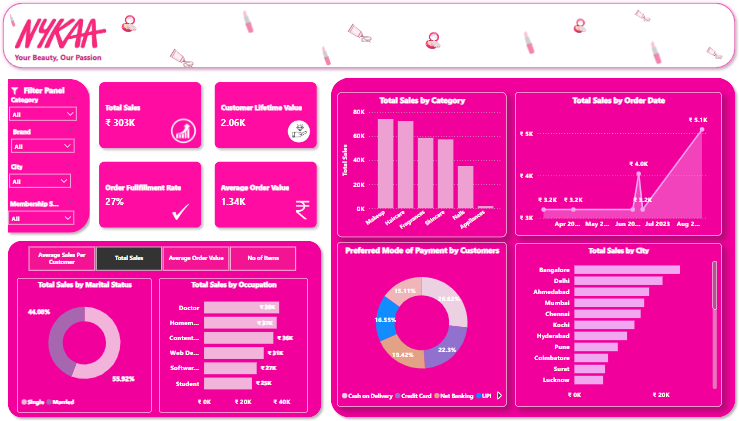

Layout of this report page (visuals, bound fields, positions):
{"tool":"powerbi","page":{"name":"Page 1","canvas":[1400,800],"ordinal":0},"visuals":[{"type":"shape","box":[0,0,1400,141.4],"z":0},{"type":"image","box":[0,34.3,235.7,65.7],"z":1000},{"type":"image","box":[640,38.6,84.3,57.1],"z":2000},{"type":"image","box":[975.7,42.9,48.6,81.4],"z":3000},{"type":"image","box":[304.3,84.3,84.3,57.1],"z":4000},{"type":"image","box":[445.7,2.9,48.6,81.4],"z":5000},{"type":"image","box":[782.9,54.3,80,52.9],"z":6000},{"type":"image","box":[210,22.9,80,52.9],"z":7000},{"type":"image","box":[0,22.9,52.9,38.6],"z":8000},{"type":"image","box":[1067.1,30,64.3,45.7],"z":9000},{"type":"image","box":[1215.7,61.4,48.6,81.4],"z":10000},{"type":"image","box":[1182.9,12.9,65.7,40],"z":11000},{"type":"textbox","box":[27.1,95.7,262.9,28.6],"z":12000},{"type":"shape","box":[8.6,142.9,172.9,308.6],"z":13000},{"type":"textbox","box":[44,158,230,38],"z":14000},{"type":"image","box":[9,161,44,31],"z":15000},{"type":"cardVisual","fields":{"Data":["Nykaa Customers.Total Sales","Nykaa Customers.Customer Lifetime Value","Nykaa Customers.Order Fullfillment Rate","Nykaa Customers.Average Order Value"]},"box":[172.9,141.4,445.7,310],"z":16000},{"type":"image","box":[1321.4,82.9,61.4,41.4],"z":17000},{"type":"image","box":[597.1,77.1,42.9,64.3],"z":18000},{"type":"donutChart","fields":{"Y":["Nykaa Customers.Total Sales","Nykaa Customers.average sales per customer","Nykaa Products.No of Items","Nykaa Sales.Average Order Value"],"Category":["Nykaa Customers.Marital Status"]},"box":[61.4,494.3,257.1,157.1],"z":19000},{"type":"shape","box":[8.6,448.6,610,351.4],"z":20000},{"type":"shape","box":[618.6,141.4,781.4,658.6],"z":25001},{"type":"columnChart","title":"Total Sales by Category","fields":{"Category":["Nykaa Products.Category"],"Y":["Sum(Nykaa Sales.Total Amount)"]},"box":[640,177.1,320,274.3],"z":25004},{"type":"donutChart","title":"Preferred Mode of Payment by Customers","fields":{"Y":["CountNonNull(Nykaa Sales.Customer ID)"],"Category":["Nykaa Orders.Payment Method"]},"box":[640,460,320,311.4],"z":25005},{"type":"barChart","fields":{"Category":["Nykaa Customers.City"],"Y":["Nykaa Customers.Total Sales"]},"box":[975.7,462.9,390,308.6],"z":25006},{"type":"areaChart","fields":{"Category":["Nykaa Orders.Order Date"],"Y":["Nykaa Customers.Total Sales"]},"box":[975.7,177.1,390,271.4],"z":25007},{"type":"slicer","fields":{"Values":["Nykaa Products.Category"]},"box":[11.4,177.1,147.1,61.4],"z":25008},{"type":"slicer","fields":{"Values":["Nykaa Products.Brand"]},"box":[14.3,238.6,138.6,64.3],"z":25009},{"type":"slicer","fields":{"Values":["Nykaa Customers.Membership Status"]},"box":[8.6,372.9,144.3,62.9],"z":25010},{"type":"slicer","fields":{"Values":["Nykaa Customers.City"]},"box":[11.4,302.9,135.7,57.1],"z":25011},{"type":"image","box":[318.6,221.4,61.4,61.4],"z":25012},{"type":"image","box":[314.3,381.4,60,44.3],"z":25013},{"type":"image","box":[552.9,372.9,44.3,52.9],"z":25014},{"type":"image","box":[538.6,221.4,60,61.4],"z":25015},{"type":"slicer","fields":{"Values":["Metrics.Metrics"]},"box":[31.4,462.9,554.3,58.6],"z":25016},{"type":"donutChart","fields":{"Y":["Nykaa Customers.Total Sales"],"Category":["Nykaa Customers.Marital Status"]},"box":[35.7,528.6,254.3,254.3],"z":25017},{"type":"barChart","fields":{"Category":["Nykaa Customers.Occupation"],"Y":["Nykaa Customers.Total Sales"]},"box":[304.3,528.6,281.4,254.3],"z":25018}]}

Visuals, with their boxes in screenshot pixels (x1, y1, x2, y2), scaled from the page's 1400x800 canvas onto the 739x421 screenshot:
shape: bbox=[0, 0, 738, 74]
image: bbox=[0, 18, 124, 53]
image: bbox=[338, 20, 382, 50]
image: bbox=[515, 23, 541, 65]
image: bbox=[161, 44, 205, 74]
image: bbox=[235, 2, 261, 44]
image: bbox=[413, 29, 455, 56]
image: bbox=[111, 12, 153, 40]
image: bbox=[0, 12, 28, 32]
image: bbox=[563, 16, 597, 40]
image: bbox=[642, 32, 667, 75]
image: bbox=[624, 7, 659, 28]
textbox: bbox=[14, 50, 153, 65]
shape: bbox=[5, 75, 96, 238]
textbox: bbox=[23, 83, 145, 103]
image: bbox=[5, 85, 28, 101]
cardVisual - Nykaa Customers.Total Sales x Nykaa Customers.Customer Lifetime Value: bbox=[91, 74, 327, 238]
image: bbox=[698, 44, 730, 65]
image: bbox=[315, 41, 338, 74]
donutChart - Nykaa Customers.Total Sales x Nykaa Customers.average sales per customer: bbox=[32, 260, 168, 343]
shape: bbox=[5, 236, 327, 420]
shape: bbox=[327, 74, 738, 420]
"Total Sales by Category" columnChart: bbox=[338, 93, 507, 238]
"Preferred Mode of Payment by Customers" donutChart: bbox=[338, 242, 507, 406]
barChart - Nykaa Customers.City x Nykaa Customers.Total Sales: bbox=[515, 244, 721, 406]
areaChart - Nykaa Orders.Order Date x Nykaa Customers.Total Sales: bbox=[515, 93, 721, 236]
slicer - Nykaa Products.Category: bbox=[6, 93, 84, 126]
slicer - Nykaa Products.Brand: bbox=[8, 126, 81, 159]
slicer - Nykaa Customers.Membership Status: bbox=[5, 196, 81, 229]
slicer - Nykaa Customers.City: bbox=[6, 159, 78, 189]
image: bbox=[168, 117, 201, 149]
image: bbox=[166, 201, 198, 224]
image: bbox=[292, 196, 315, 224]
image: bbox=[284, 117, 316, 149]
slicer - Metrics.Metrics: bbox=[17, 244, 309, 274]
donutChart - Nykaa Customers.Total Sales x Nykaa Customers.Marital Status: bbox=[19, 278, 153, 412]
barChart - Nykaa Customers.Occupation x Nykaa Customers.Total Sales: bbox=[161, 278, 309, 412]
